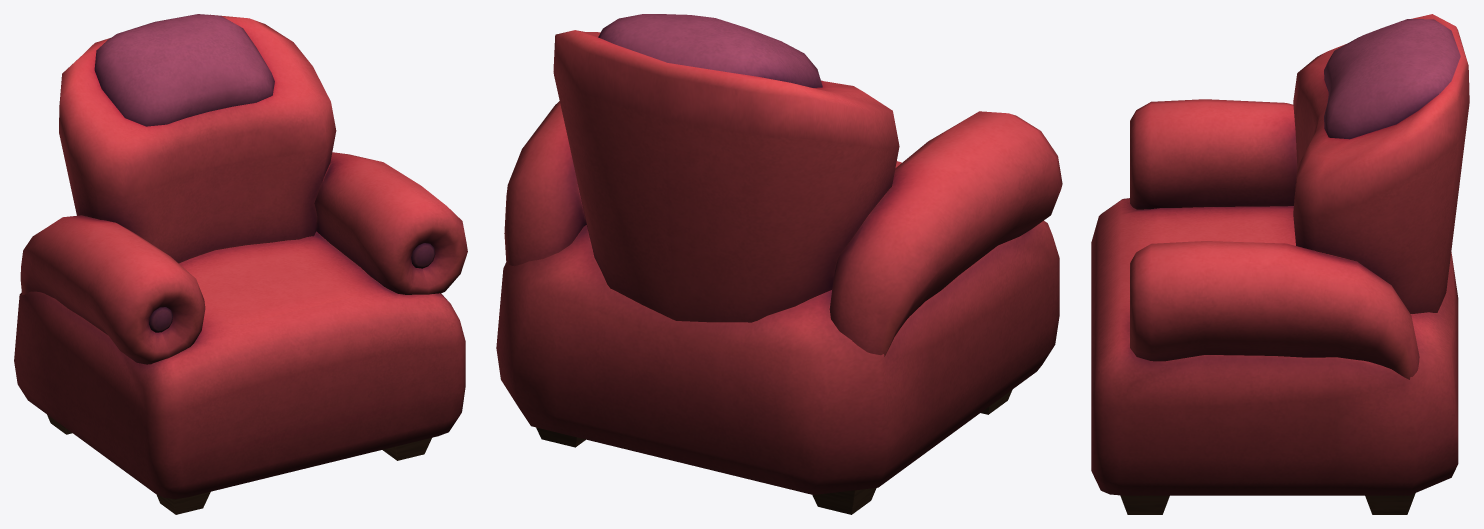
Rendered from ArmChair01.FBX.
3 renders of one model, left to right at view 1: azimuth 30°, elevation 25°; view 2: azimuth 150°, elevation 25°; view 3: azimuth 270°, elevation 25°, orthographic. The views are drawn at different scales.
Parts seen in each view (by area): view 1: ArmChair01; view 2: ArmChair01; view 3: ArmChair01.
Boxes of the visible parts, bbox=[...] form: ArmChair01: bbox=[14, 14, 467, 514]; ArmChair01: bbox=[496, 14, 1062, 514]; ArmChair01: bbox=[1091, 14, 1469, 514].
Size of what is drawn, in the model's own units: 1.17 by 1.15 by 0.9716.
